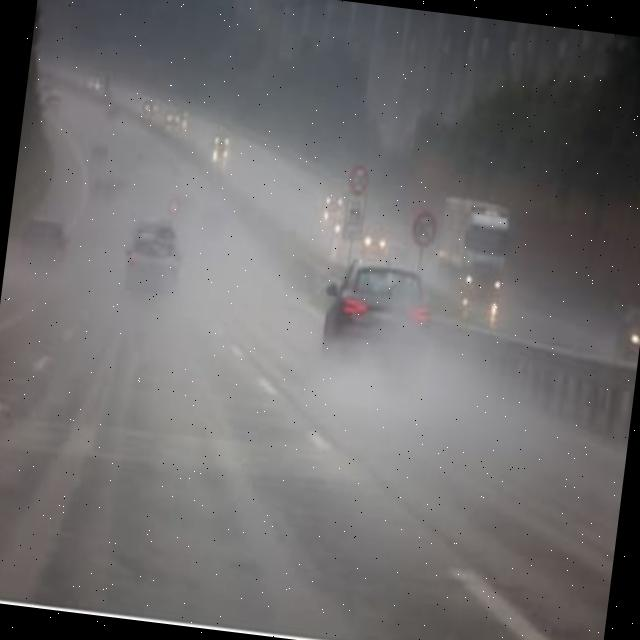bus: (434, 196, 509, 296)
car: (322, 262, 439, 382), (122, 230, 188, 300), (21, 215, 72, 267), (614, 300, 640, 359), (360, 222, 390, 255), (322, 186, 346, 210)
